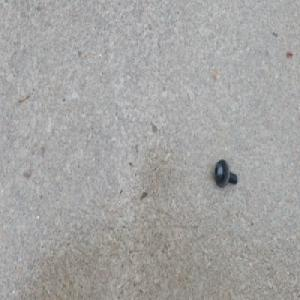BoltWasher: (213, 157, 238, 187)
